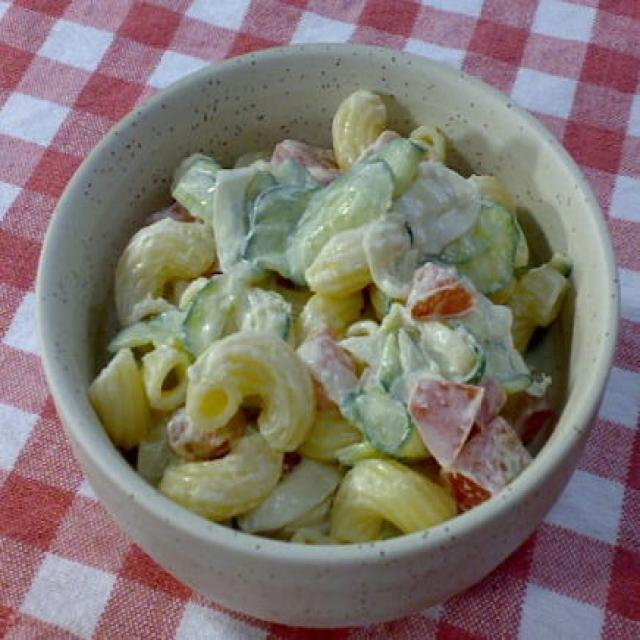蔬菜料理: (25, 31, 630, 640)
